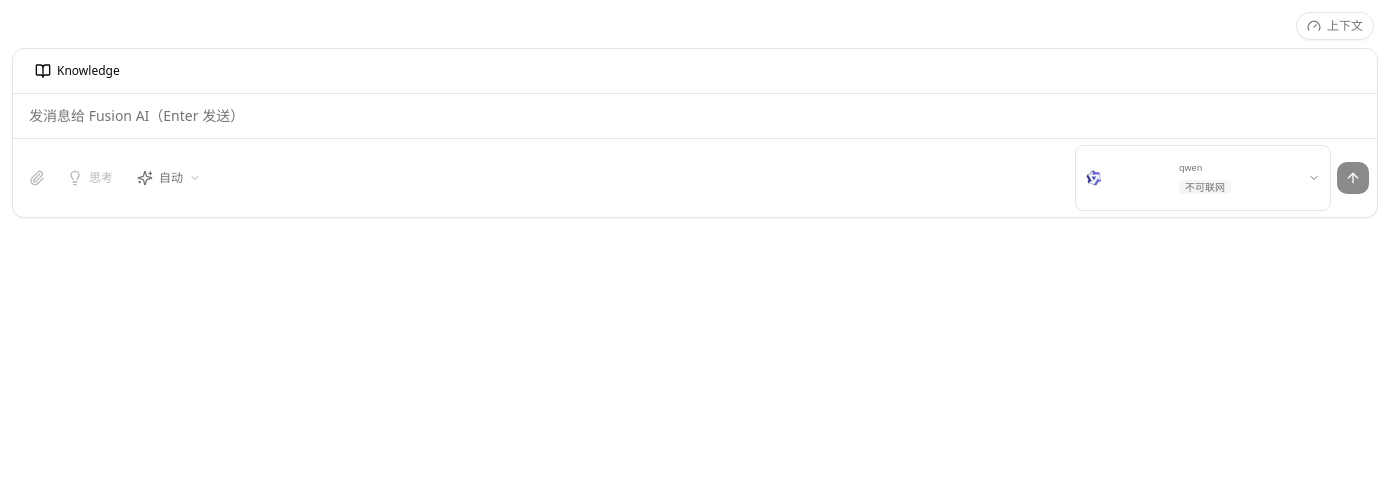
ChatInput › 按模型能力禁用不兼容模式并说明原因
Press the mouse on the button with aria-label "执行模式：自动" at [169, 178], box [127,162,211,194]
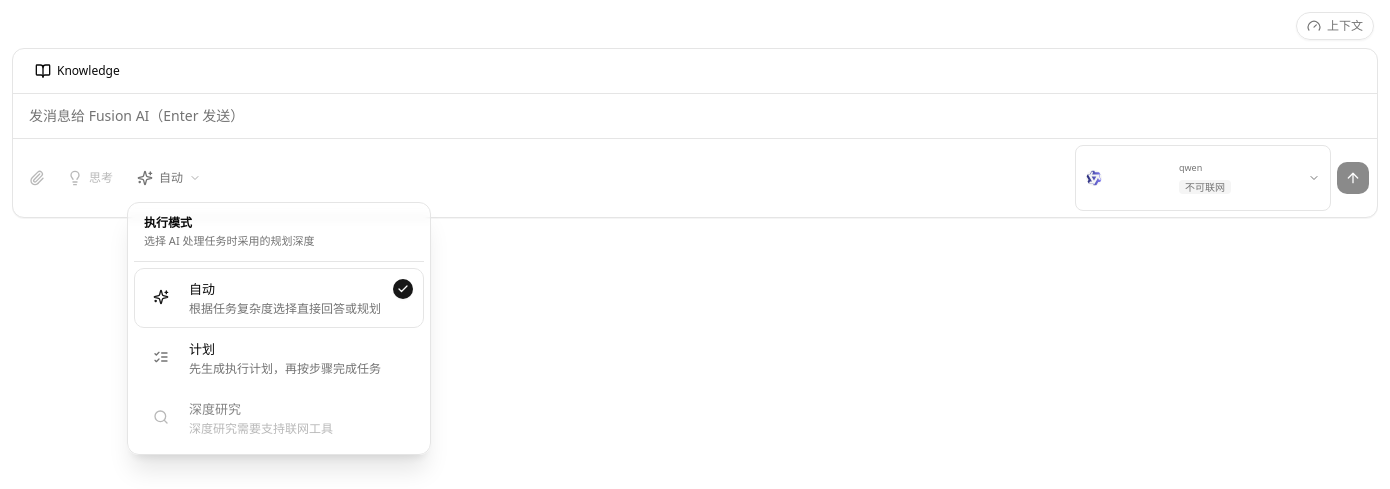
expect the menu item "计划 先生成执行计划，再按步骤完成任务" is enabled: met, box [153,340,381,377]
expect the menu item "深度研究 深度研究需要支持联网工具" is shown: met, box [153,400,333,437]
